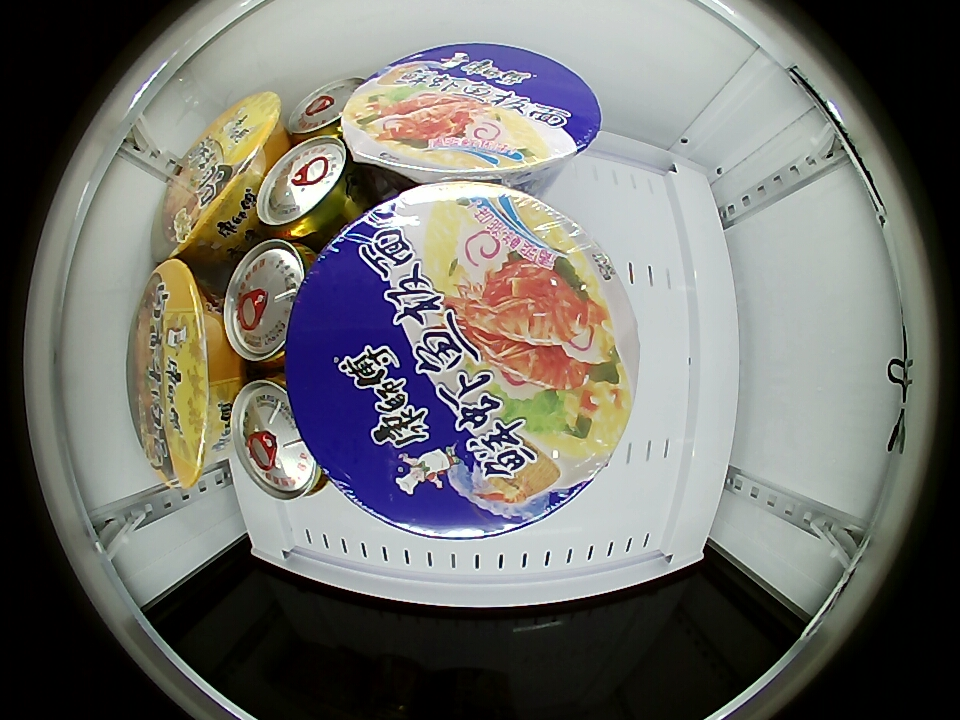dongpeng: (230, 376, 325, 501), (222, 239, 315, 365), (256, 134, 362, 241), (287, 78, 362, 140)
luxiangniurou: (129, 260, 227, 488), (154, 91, 280, 261)
xianxiayuban: (286, 181, 637, 542), (340, 44, 602, 186)
